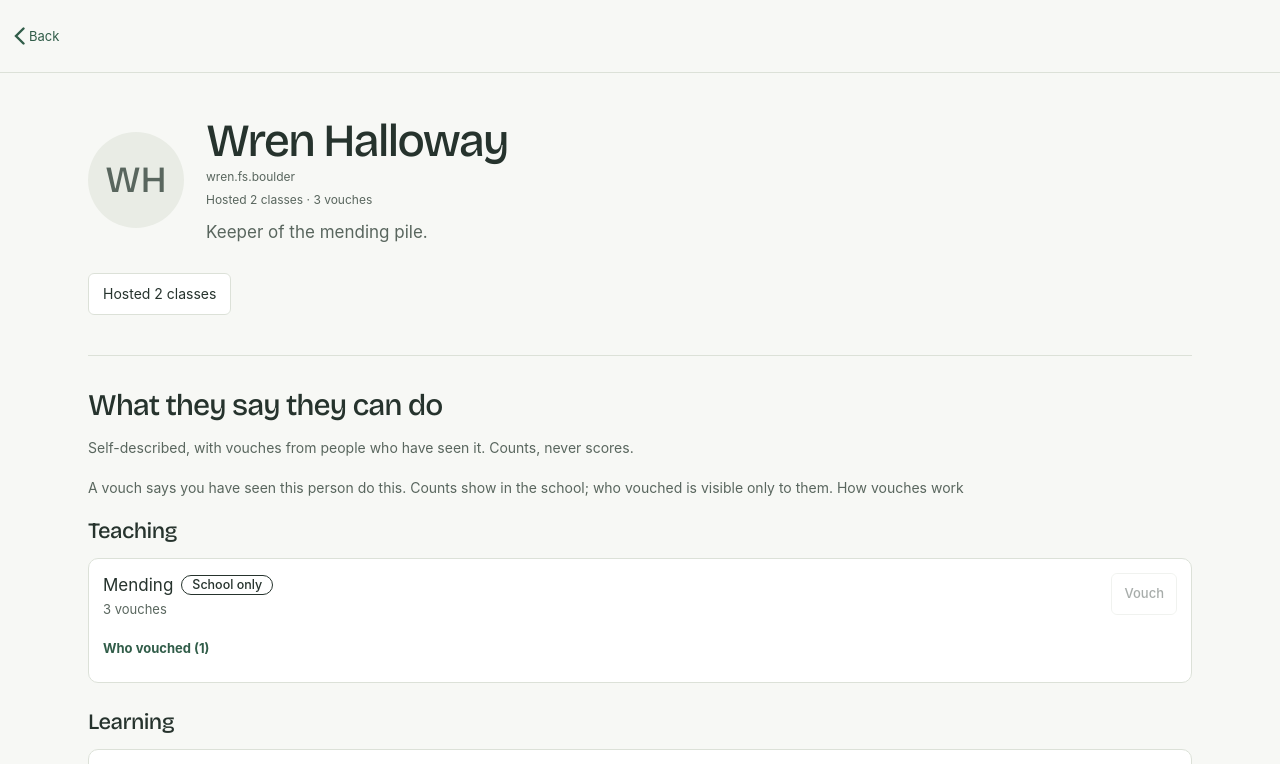
it: MemberProfileScreen › lets the subject see who vouched for each of their own skills
The width and height of the screenshot is (1280, 764).
Step 1. Click the button "Who vouched (1)" → (156, 648), box [103, 628, 209, 668]
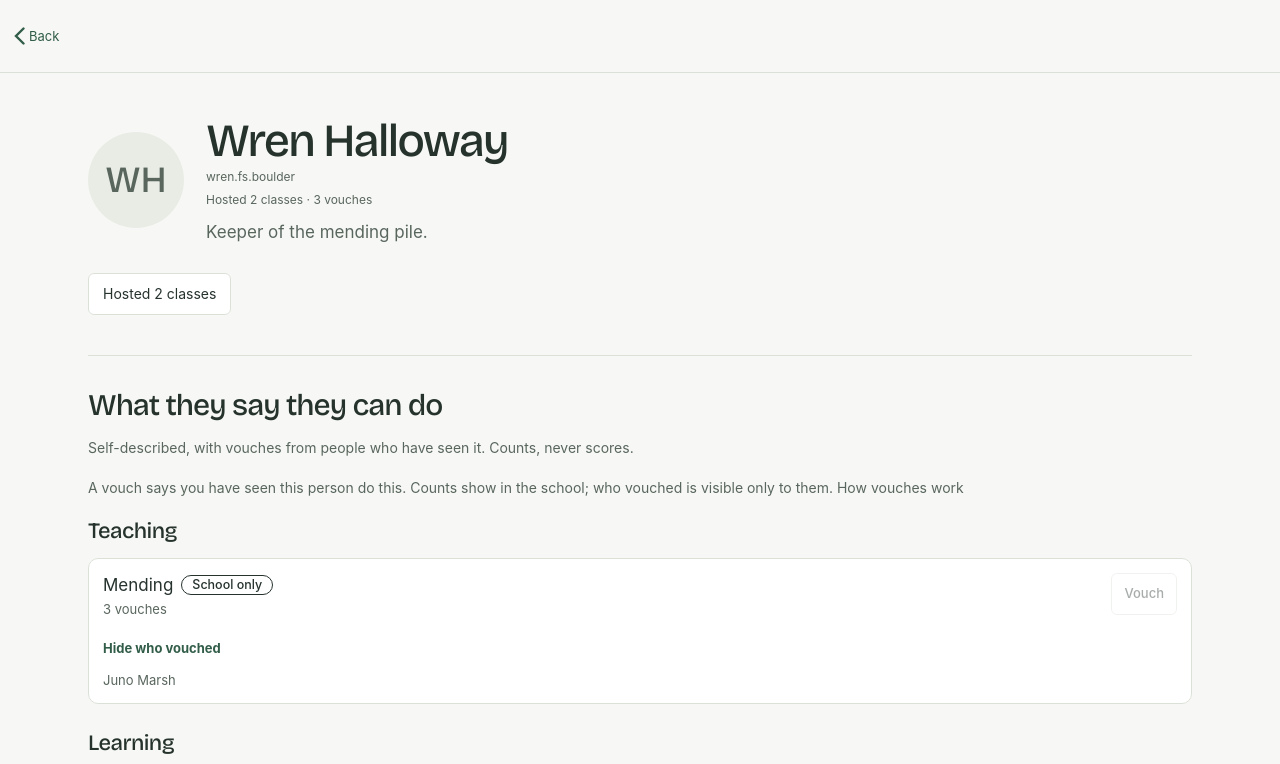
Result: the list item "Juno Marsh" is shown at [103, 672, 176, 688]
